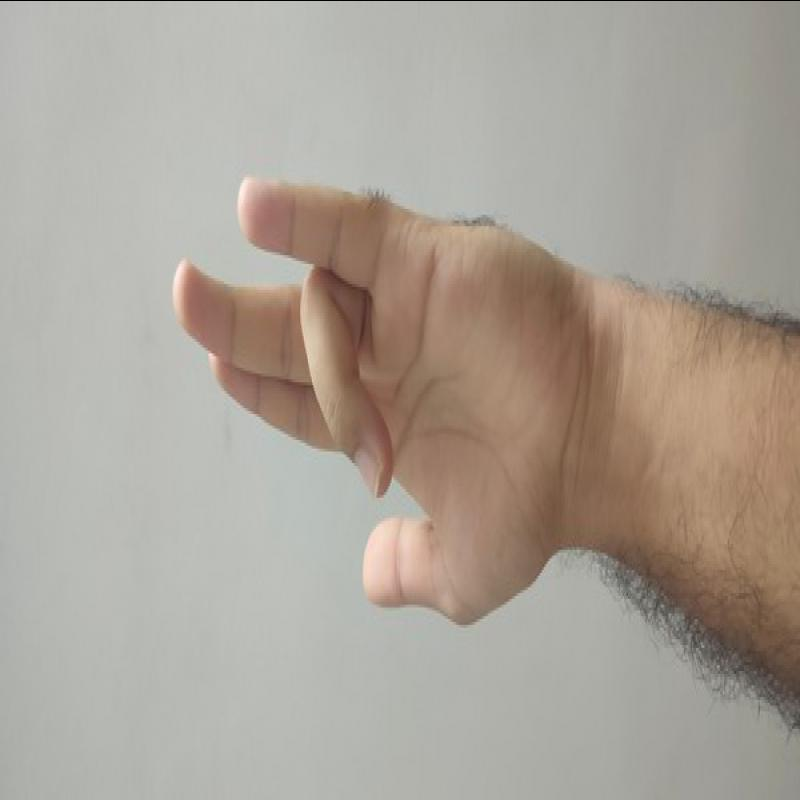Pathaaka: (161, 163, 594, 635)
